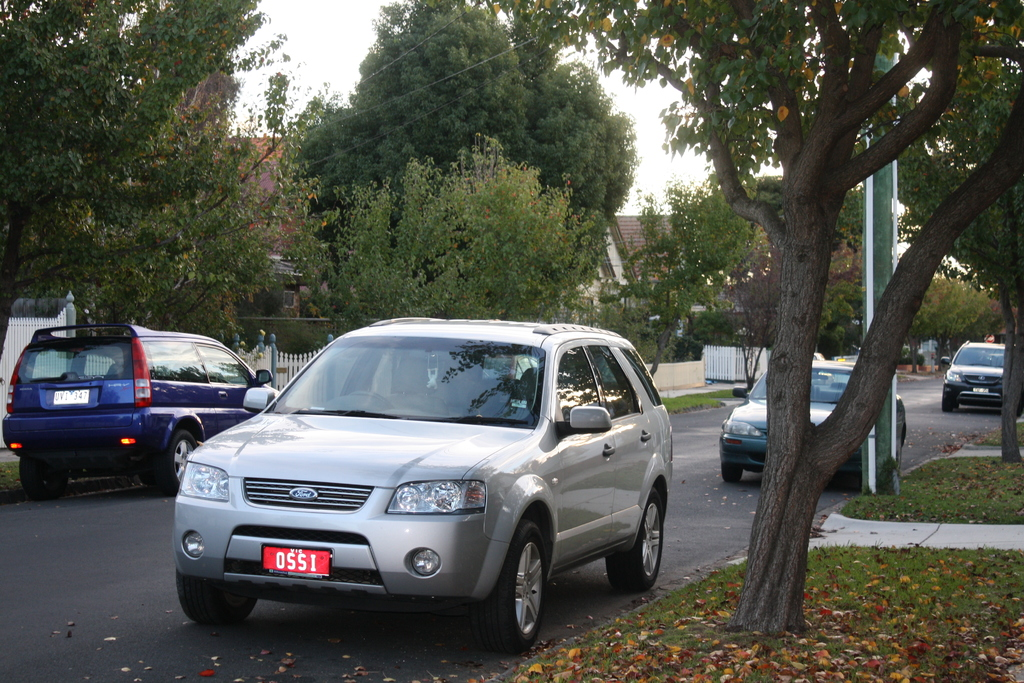Car: (172, 306, 681, 658), (0, 321, 272, 492), (710, 362, 910, 496), (936, 336, 1020, 412)
